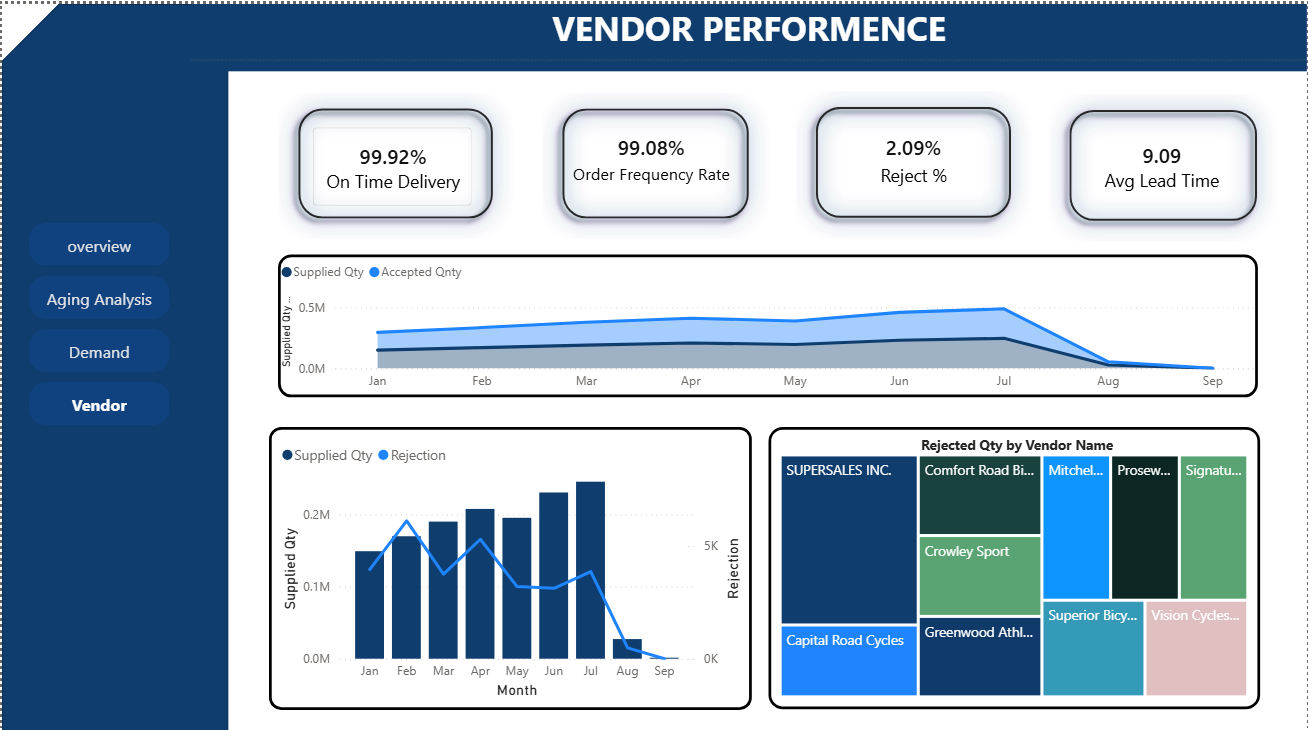

Layout of this report page (visuals, bound fields, positions):
{"tool":"powerbi","page":{"name":"Vendor","canvas":[1280,720],"ordinal":3},"visuals":[{"type":"shape","box":[0,0,222.1,721.4],"z":0},{"type":"cardVisual","title":"ORF Card","fields":{"Data":["Measure_Vendor.OrderFillRate"]},"box":[539,102,197,100],"z":0,"group":"g1"},{"type":"cardVisual","title":"C_Rejection","fields":{"Data":["Measure_Vendor.Reject %"]},"box":[809,103,170,100],"z":0,"group":"g2"},{"type":"cardVisual","title":"C_OTD","fields":{"Data":["Measure_Vendor.OTD % (Measure Only)"]},"box":[293,109,180,101],"z":0,"group":"g4"},{"type":"cardVisual","title":"ALT Card","fields":{"Data":["Measure_Vendor.Avg Lead Time"]},"box":[1041,109,192,100],"z":0,"group":"g3"},{"type":"shape","title":"S_Rejection","box":[777.8,81.1,231.3,148.7],"z":1000,"group":"g2"},{"type":"shape","title":"S_OTD","box":[270.4,83,230.6,147.9],"z":1000,"group":"g4"},{"type":"group","id":"g1","title":"ORF","box":[530,83,222.7,147.9],"z":1000},{"type":"shape","title":"S_ORF","box":[530,83,222.7,147.9],"z":1000,"group":"g1"},{"type":"shape","title":"S_ALT","box":[1027,83.4,223.9,148.7],"z":1000,"group":"g3"},{"type":"treemap","title":"Rejected Qty by Vendor Name","fields":{"Group":["FactVendorPerformence.VendorName"],"Values":["Sum(FactVendorPerformence.TotalQuantityRejected)"]},"box":[750.8,415.1,482,276.8],"z":2000},{"type":"lineClusteredColumnComboChart","fields":{"Category":["DimDate.Month"],"Y":["Measure_Vendor.Supplied Qty"],"Y2":["Measure_Vendor.Rejection"]},"box":[262.5,414.8,473.6,277.2],"z":4000},{"type":"stackedAreaChart","fields":{"Category":["DimDate.Month"],"Y":["Measure_Vendor.Supplied Qty","Measure_Vendor.Accepted Qnty"]},"box":[270.4,245,960.7,140],"z":5000},{"type":"pageNavigator","title":"PN_Overview","box":[27,215,138,200],"z":6000},{"type":"group","id":"g2","title":"Rejection","box":[777.8,81.1,231.3,148.7],"z":7000},{"type":"group","id":"g3","title":"ALT","box":[1027,83.4,223.9,148.7],"z":8000},{"type":"group","id":"g4","title":"OTD","box":[270.4,83,230.6,147.9],"z":9000},{"type":"actionButton","title":"VENDOR PERFORMENCE","box":[185.2,0,1094.2,66.1],"z":9001}]}

Visuals, with their boxes in screenshot pixels (x1, y1, x2, y2), scaled from the page's 1280x720 canvas onto the 1308x730 screenshot:
shape: [0,0,227,729]
"ORF Card" cardVisual: [551,103,752,205]
"C_Rejection" cardVisual: [827,104,1000,206]
"C_OTD" cardVisual: [299,111,483,213]
"ALT Card" cardVisual: [1064,111,1260,212]
"S_Rejection" shape: [795,82,1031,233]
"S_OTD" shape: [276,84,512,234]
"ORF" group: [542,84,769,234]
"S_ORF" shape: [542,84,769,234]
"S_ALT" shape: [1049,85,1278,235]
"Rejected Qty by Vendor Name" treemap: [767,421,1260,702]
lineClusteredColumnComboChart - DimDate.Month x Measure_Vendor.Supplied Qty: [268,421,752,702]
stackedAreaChart - DimDate.Month x Measure_Vendor.Supplied Qty: [276,248,1258,390]
"PN_Overview" pageNavigator: [28,218,169,421]
"Rejection" group: [795,82,1031,233]
"ALT" group: [1049,85,1278,235]
"OTD" group: [276,84,512,234]
"VENDOR PERFORMENCE" actionButton: [189,0,1307,67]
